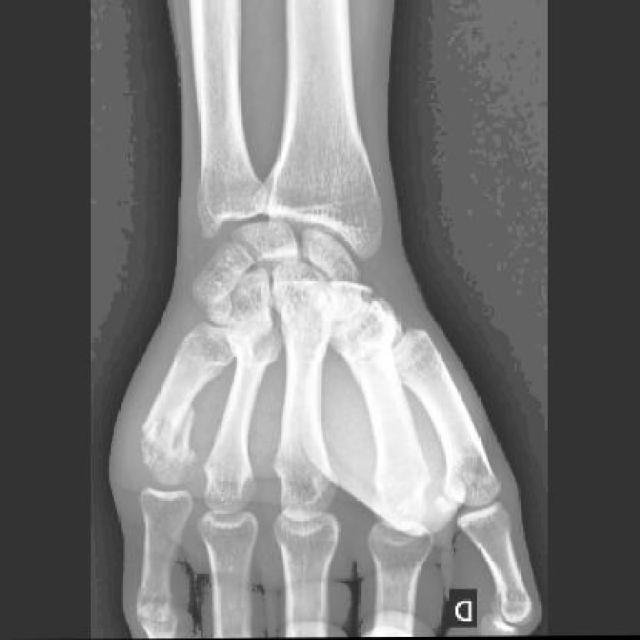Fracture: (140, 391, 200, 469)
